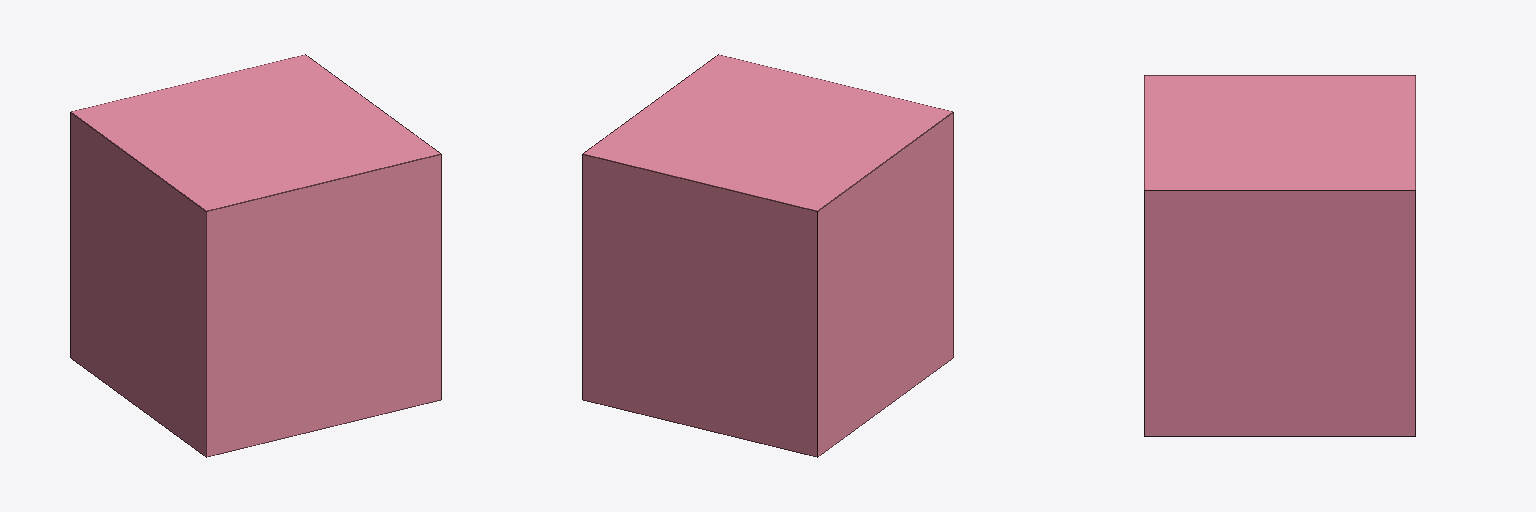
3 views of the same model, side by side, from view 1: azimuth 30°, elevation 25°; view 2: azimuth 150°, elevation 25°; view 3: azimuth 270°, elevation 25° (orthographic).
Visible parts, largest first — view 1: Cube; view 2: Cube; view 3: Cube.
Part boxes in pixels (x1,y1,x2,y2): Cube: (70,54,441,457); Cube: (582,54,953,457); Cube: (1144,75,1415,436).
Bounding box in the file's own units: 2 × 2 × 2.
Materials: 1 (1 with a texture image).